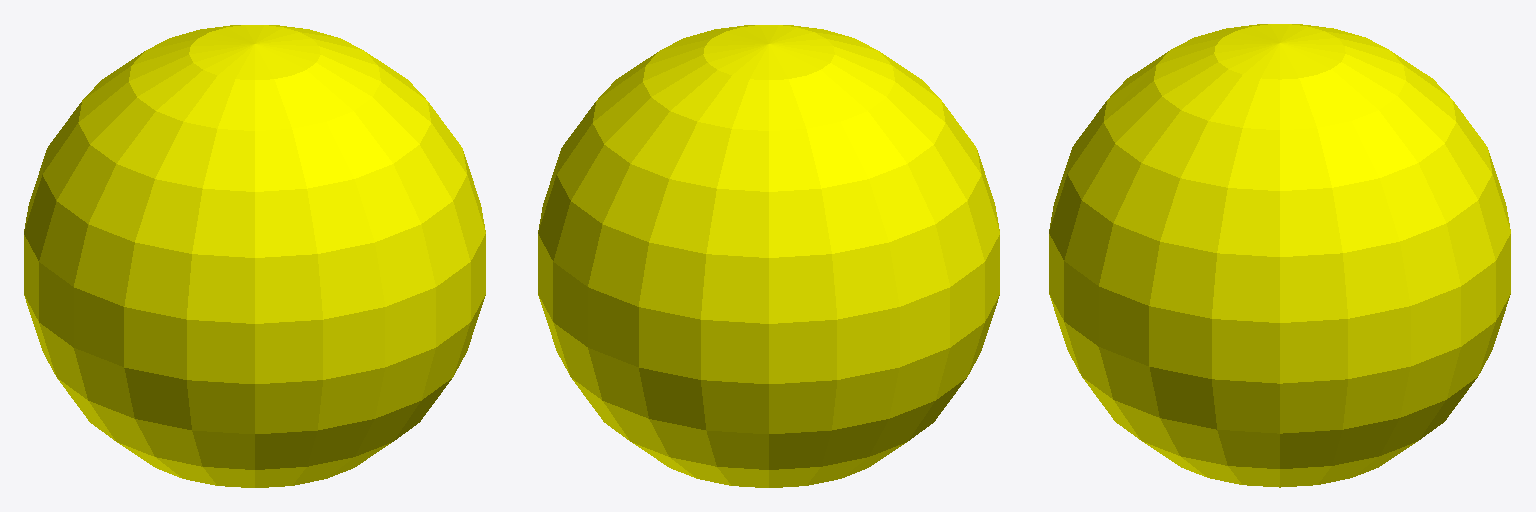
The model's file is huangqiu.obj.
The picture shows the model from 3 angles: view 1: azimuth 30°, elevation 25°; view 2: azimuth 150°, elevation 25°; view 3: azimuth 270°, elevation 25°; orthographic projection.
Parts seen in each view (by area): view 1: huangqiu; view 2: huangqiu; view 3: huangqiu.
Boxes of the visible parts, x1,y1,x2,y2 form: huangqiu: [24, 25, 485, 487]; huangqiu: [538, 25, 999, 487]; huangqiu: [1049, 24, 1510, 487].
Size of the model in its own units: 0.1476 by 0.15 by 0.1481.